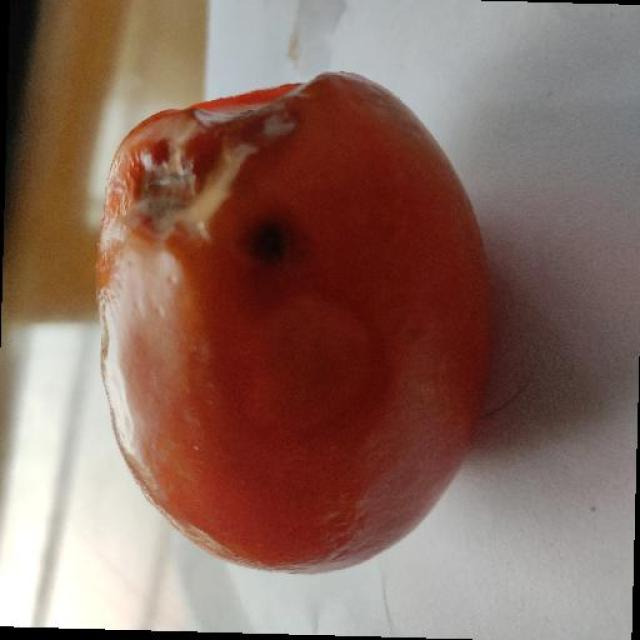Stale_tomato: (18, 58, 586, 570)
